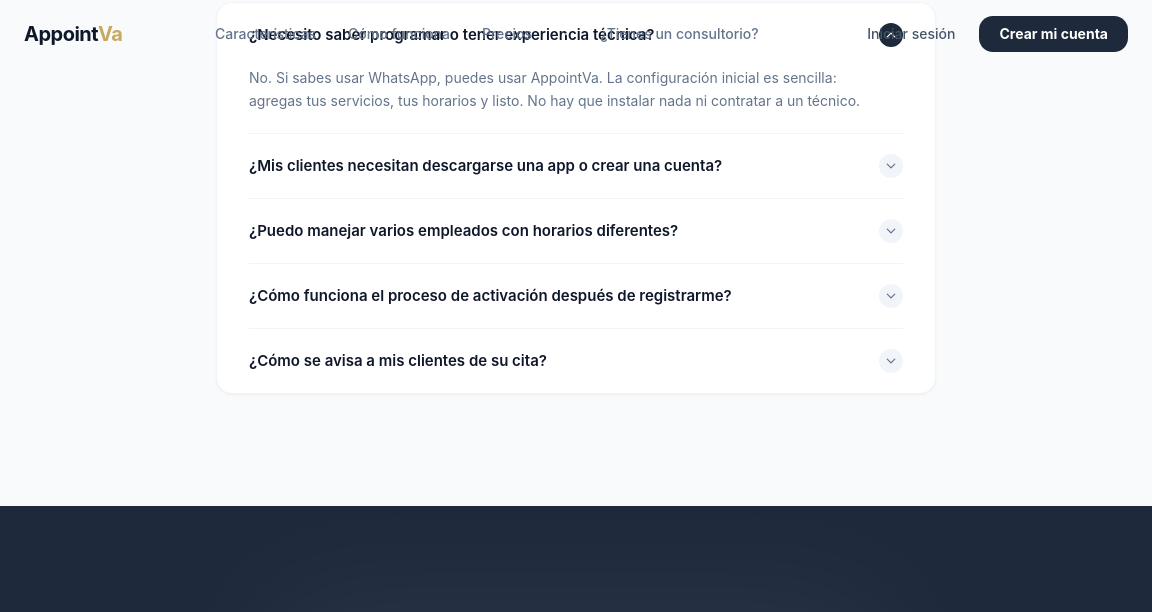
Scenario: LandingPage — copy honesto y precios (decisiones 1, 5, 16, 18) › explica que las notificaciones se envían por correo
This screenshot has width=1152, height=612.
(page scrolled)
Click the button "¿Cómo se avisa a mis clientes de su cita?". click: (398, 360)
box: [249,329,903,393]
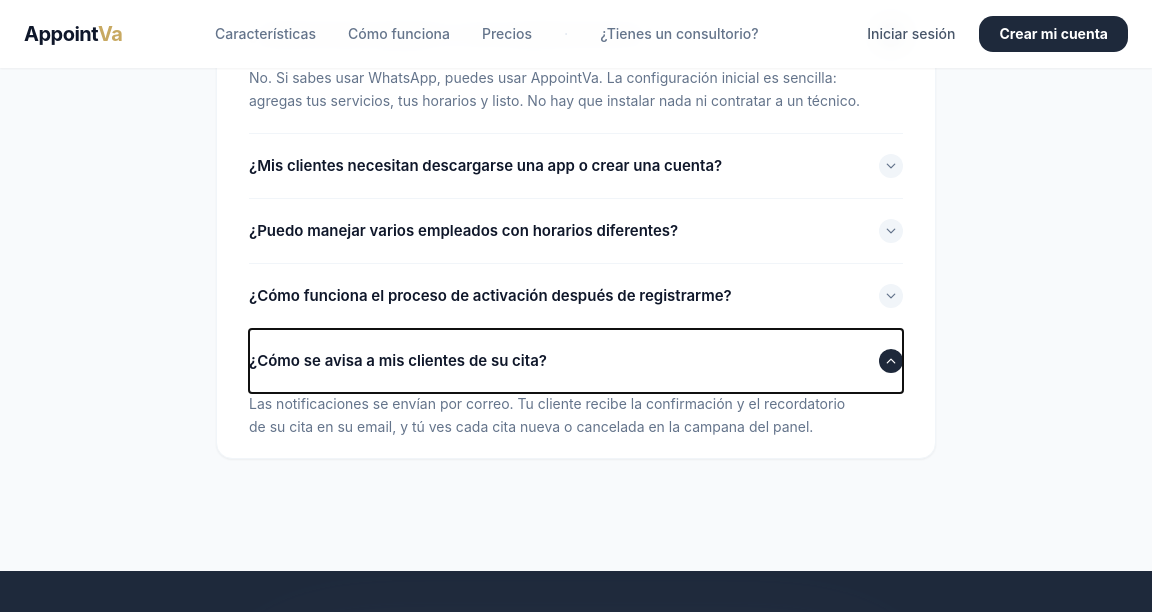
Check: the text "Las notificaciones se envían por correo" is shown, box [249,395,845,435]
